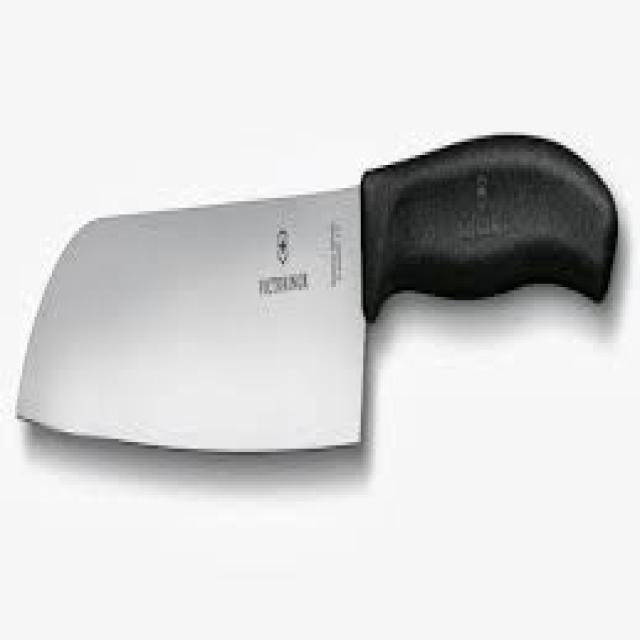Knife: (15, 135, 615, 455)
